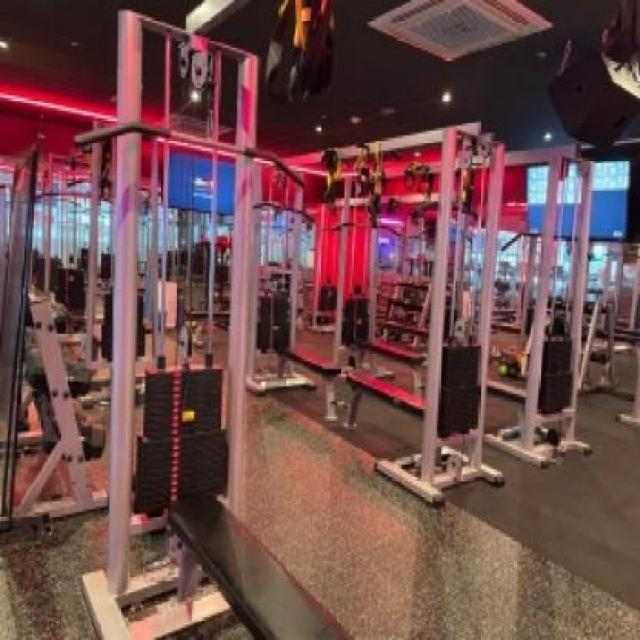Lat Pull Down: (45, 0, 328, 640)
